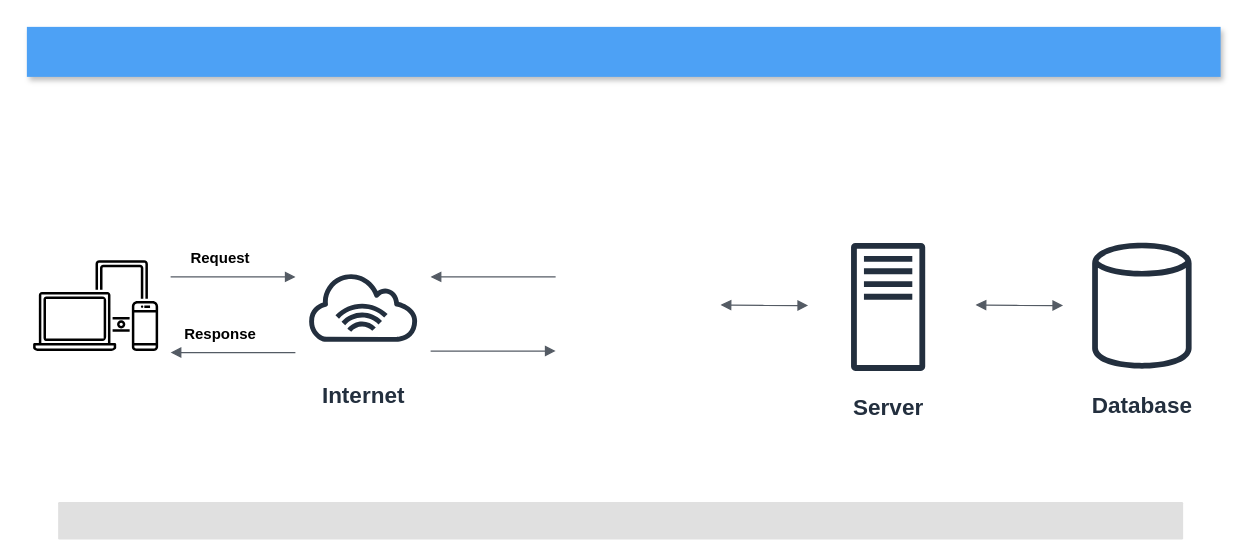
The diagram is 1249 pixels wide and 560 high, and some of its shapes have lost their labels. Each missing label, with the centre of its shape:
"Architecture:" belongs at pixel 624 53.
"devices" belongs at pixel 95 305.
